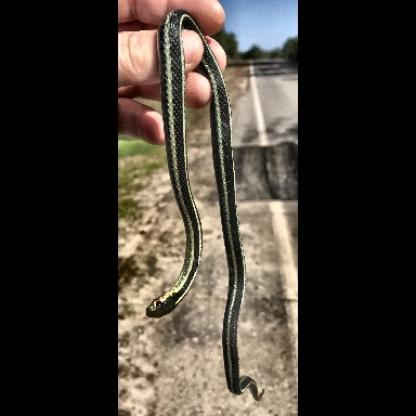Snake: (144, 9, 272, 404)
